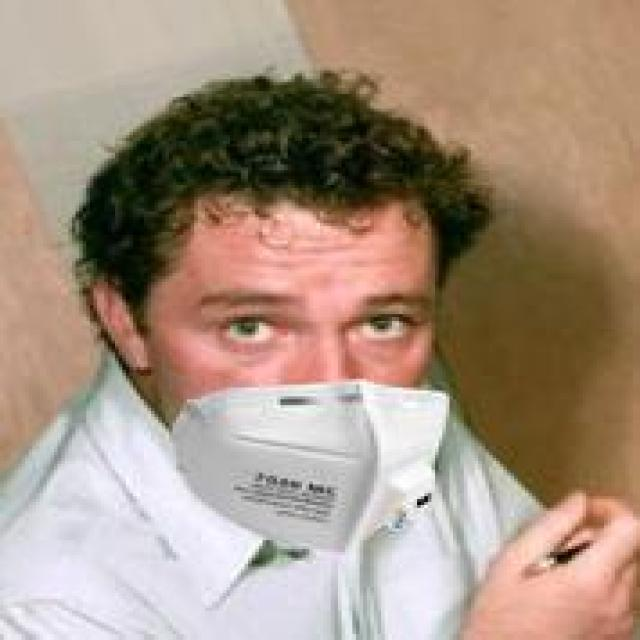mask: (65, 91, 514, 558)
